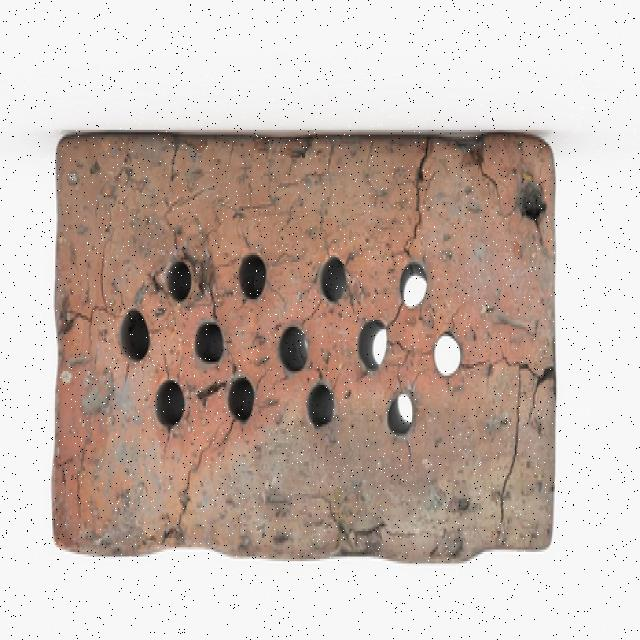bricks_ruin: (49, 130, 556, 564)
